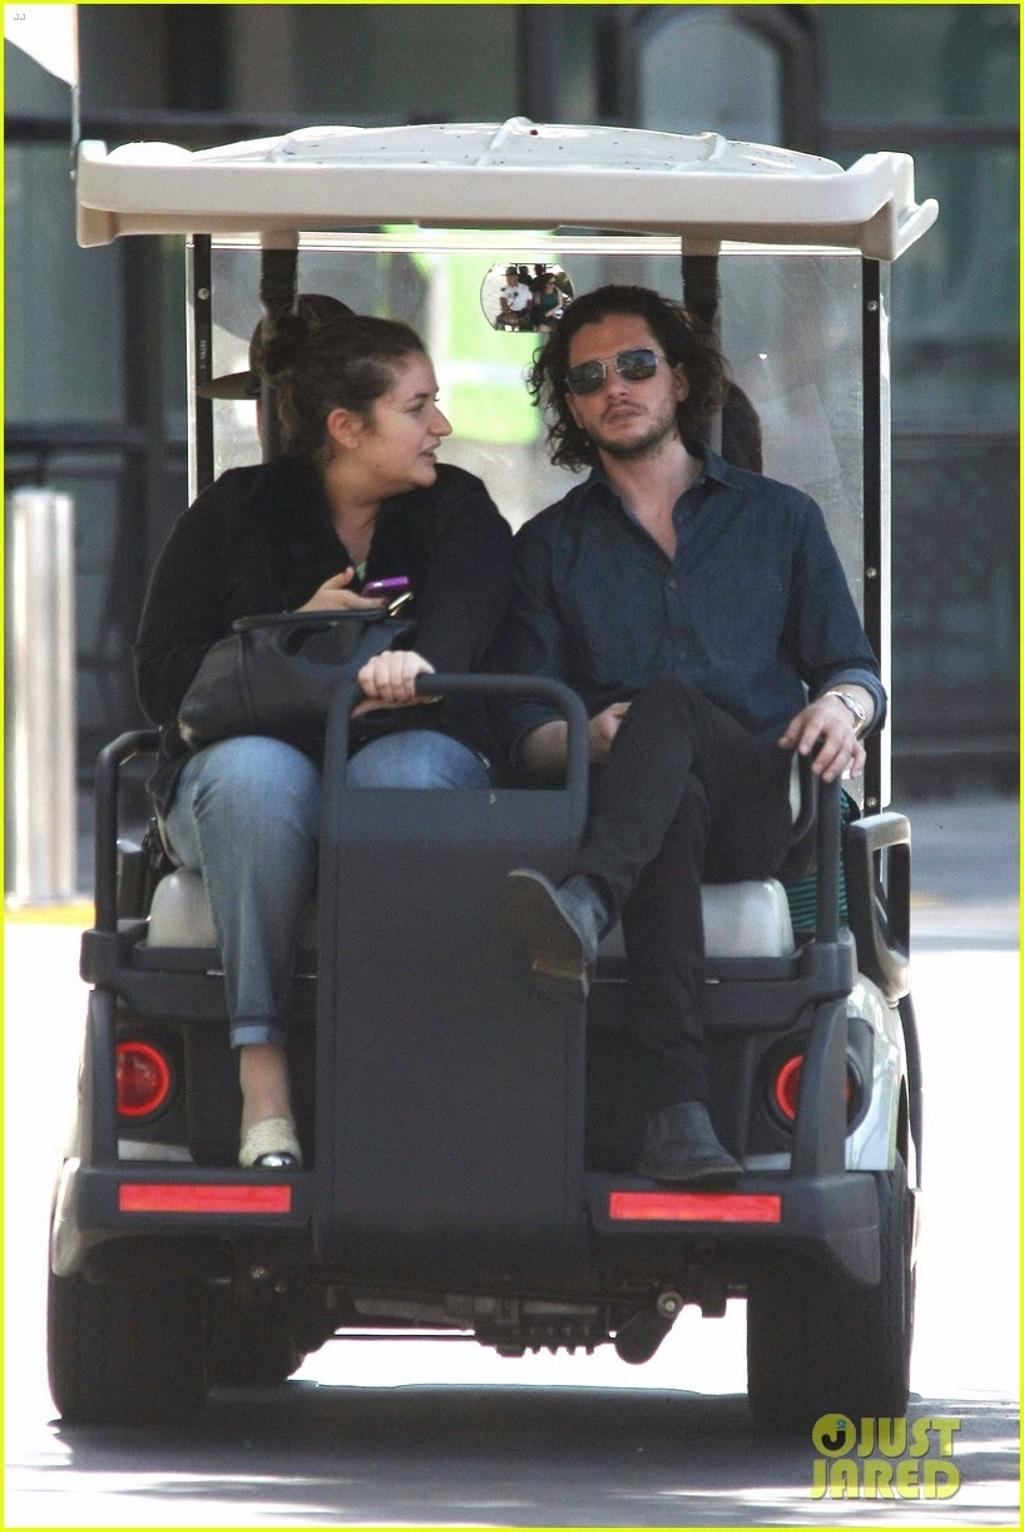face: (575, 311, 659, 443), (371, 356, 449, 476)
